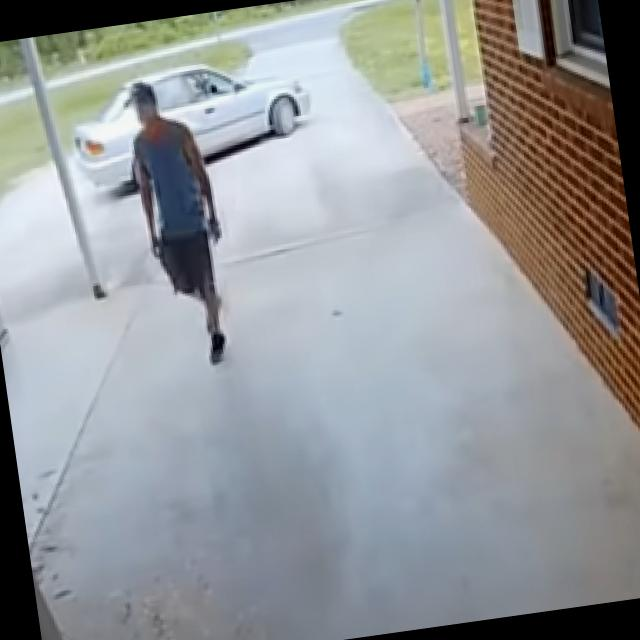person: (118, 74, 242, 373)
